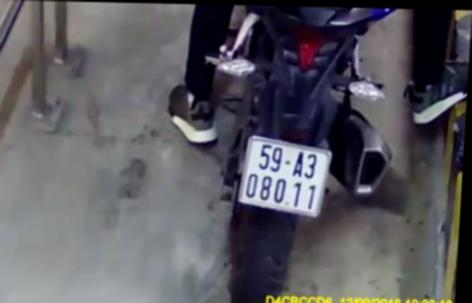License_Plate: (226, 131, 336, 222)
